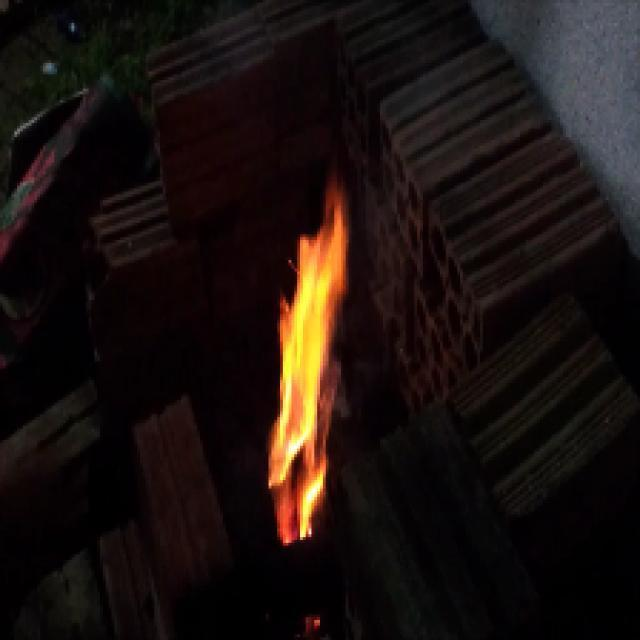Fire: (261, 192, 398, 592)
